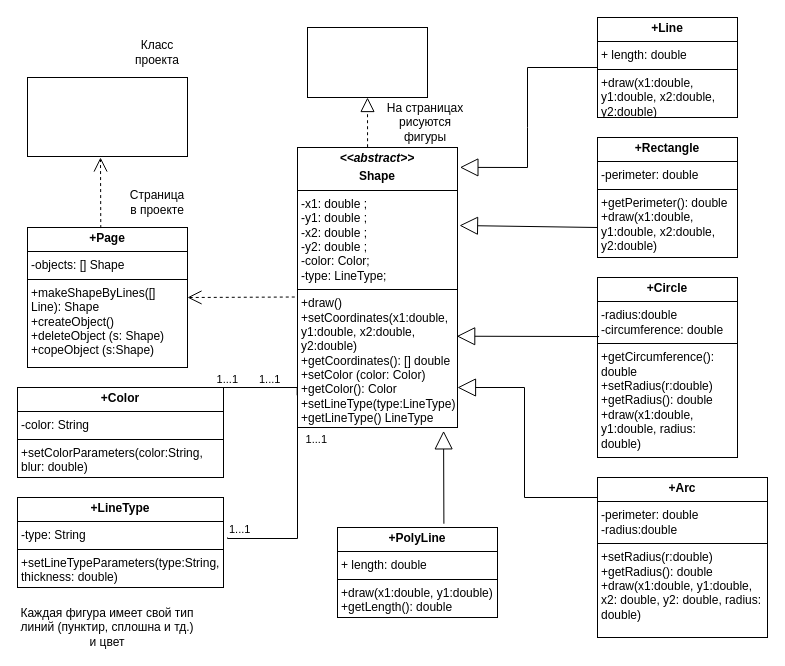
This 785x666 diagram has some shape labels left out. Here are the shapes that lost their labels. From the top down, the centre of each, then its label:
(x=367, y=62): <<Interface>> IDraw +draw()
(x=107, y=116): +Project -pages: [] Page +createNewPage(): Page
